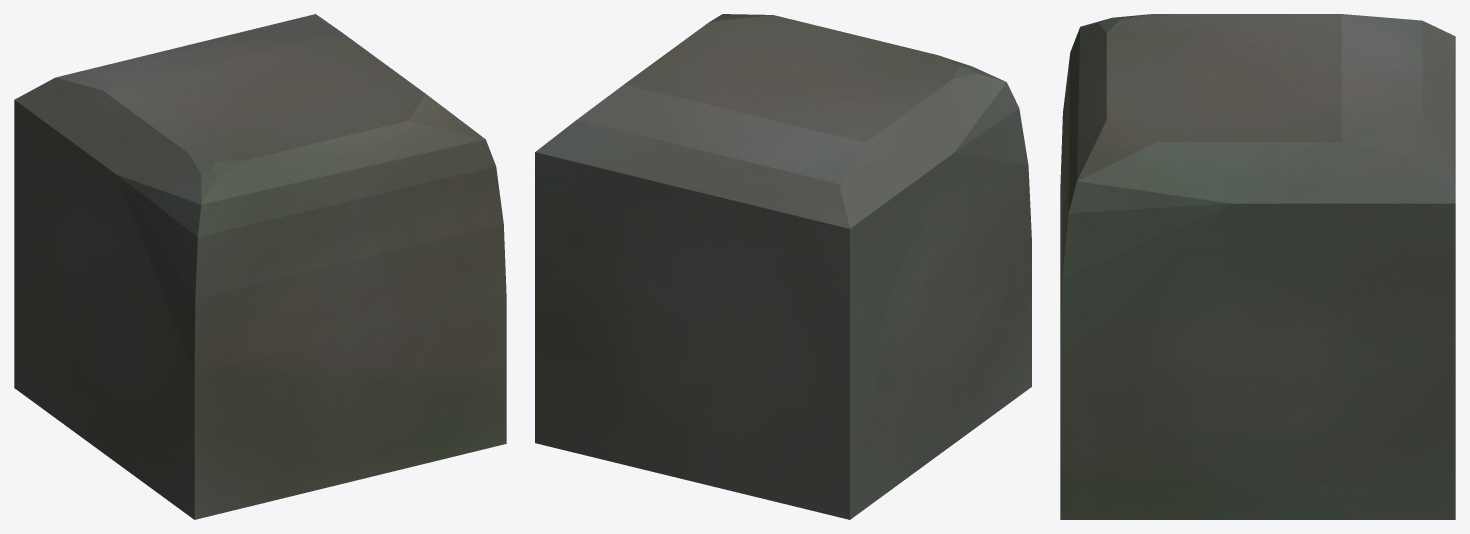
Rendered from concrete-block.glb.
The picture shows the model from 3 angles, left to right: view 1: azimuth 30°, elevation 25°; view 2: azimuth 150°, elevation 25°; view 3: azimuth 270°, elevation 25°; orthographic projection. The views are drawn at different scales.
Visible parts, largest first — view 1: ConcreteBlock-col; view 2: ConcreteBlock-col; view 3: ConcreteBlock-col.
Boxes of the visible parts, x1,y1,x2,y2 form: ConcreteBlock-col: (14,14,506,519); ConcreteBlock-col: (535,14,1031,519); ConcreteBlock-col: (1060,14,1455,519).
Bounding box in the file's own units: 2 × 2 × 2.
Materials: 1 (1 with a texture image).
